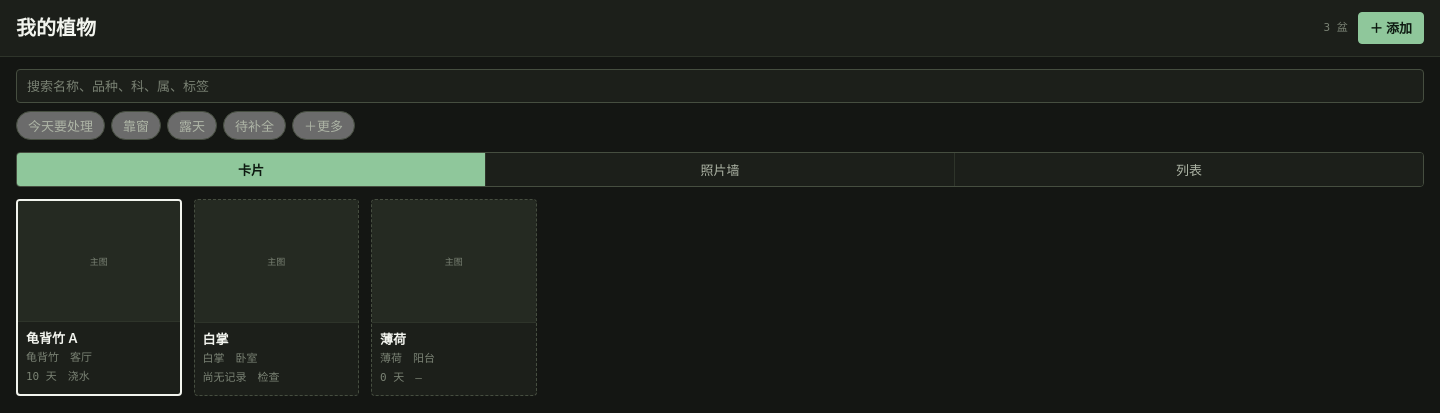
搜索 › 按名称过滤
This screenshot has width=1440, height=413.
Type "薄荷" into the search field named "搜索植物" at (720, 86), box [16,69,1424,103]
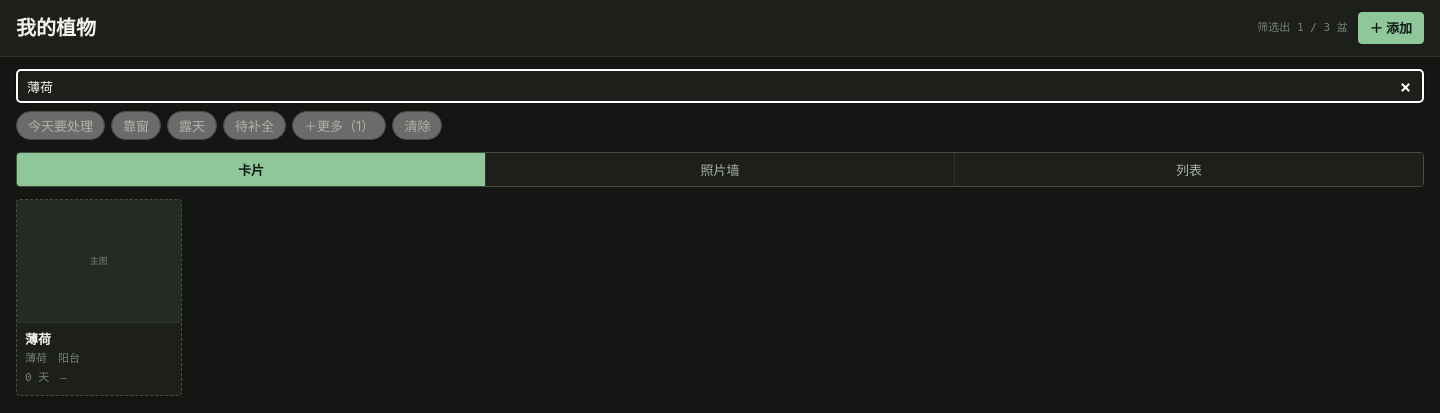
Expected: the text "薄荷" is shown, [25,331,51,347]
Expected: the button "白掌" is gone
